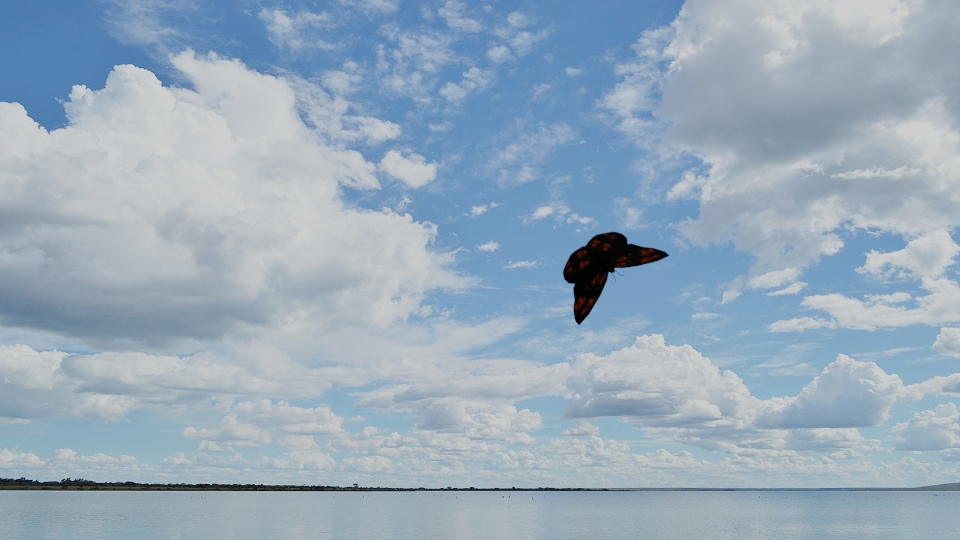insect: (562, 230, 672, 323)
